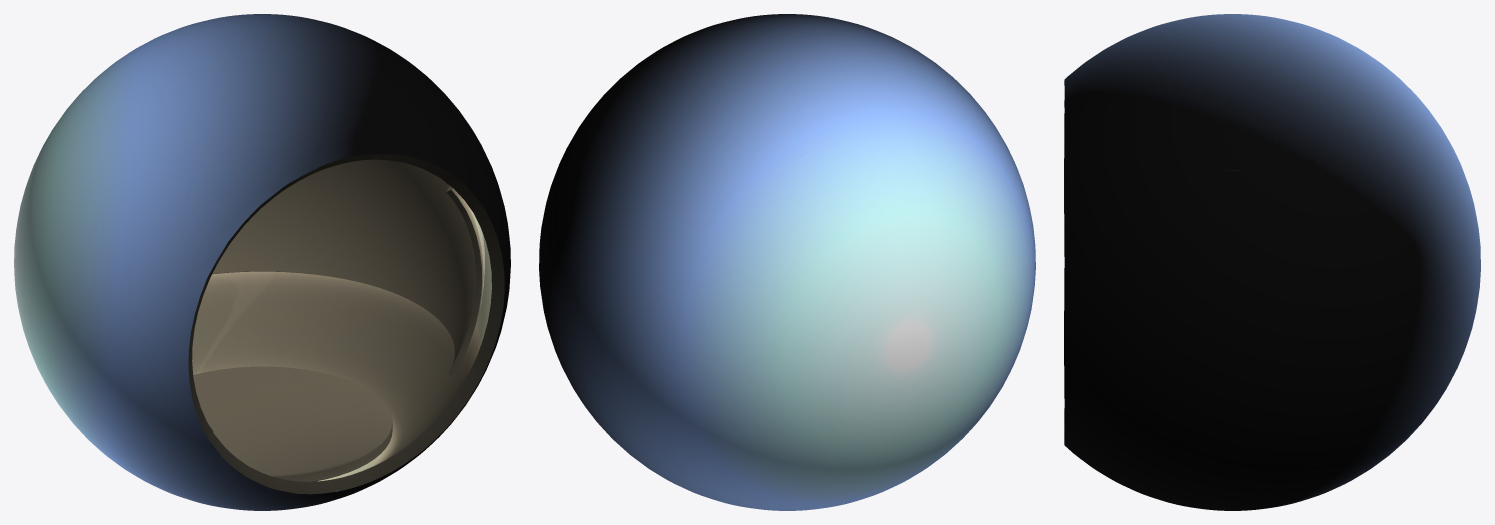
Rendered from BOLA VIDEO1.fbx.
The picture shows the model from 3 angles, left to right: view 1: azimuth 30°, elevation 25°; view 2: azimuth 150°, elevation 25°; view 3: azimuth 270°, elevation 25°; orthographic projection.
Visible parts, largest first — view 1: Sphere001; view 2: Sphere001; view 3: Sphere001.
Boxes of the visible parts, bbox=[...] form: Sphere001: bbox=[14, 14, 510, 510]; Sphere001: bbox=[539, 14, 1035, 510]; Sphere001: bbox=[1064, 14, 1480, 510].
Bounding box in the file's own units: 203 × 203 × 171.
Materials: 1 (1 with a texture image).
